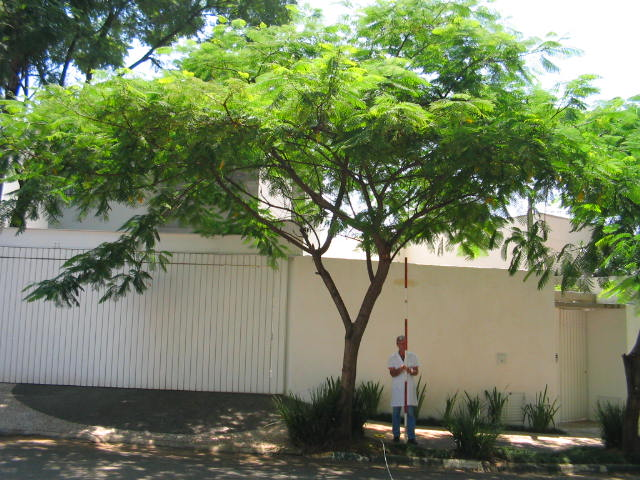crown: (3, 20, 632, 309)
stem: (326, 330, 370, 439)
stick: (397, 255, 412, 442)
tree: (1, 18, 633, 441)
